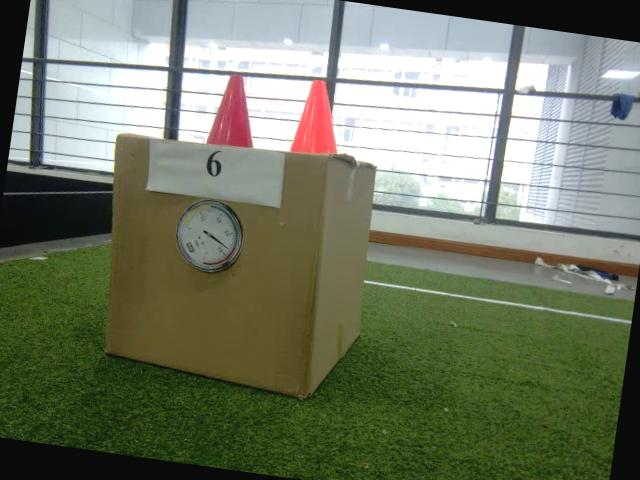6: (201, 148, 227, 180)
Dashboard: (170, 195, 250, 278)
orange_barrel: (287, 76, 350, 160)
red_barrel: (201, 68, 264, 150)
ssi: (182, 239, 198, 255)
